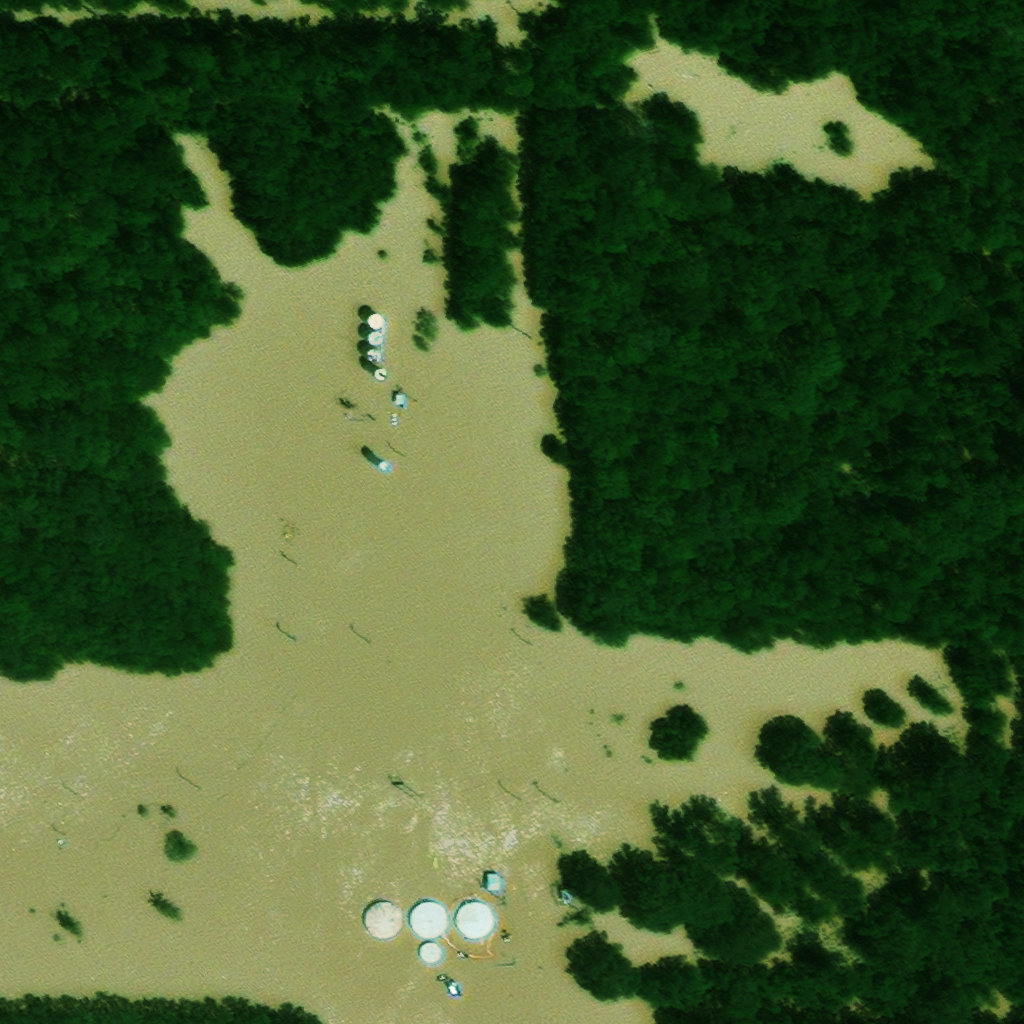major_damage: (368, 903, 405, 943), (414, 905, 452, 941), (460, 904, 496, 942), (423, 946, 444, 967), (487, 875, 501, 892), (365, 310, 379, 326), (366, 360, 379, 376), (364, 328, 377, 343), (364, 345, 376, 358), (368, 449, 378, 464), (396, 394, 405, 406)
